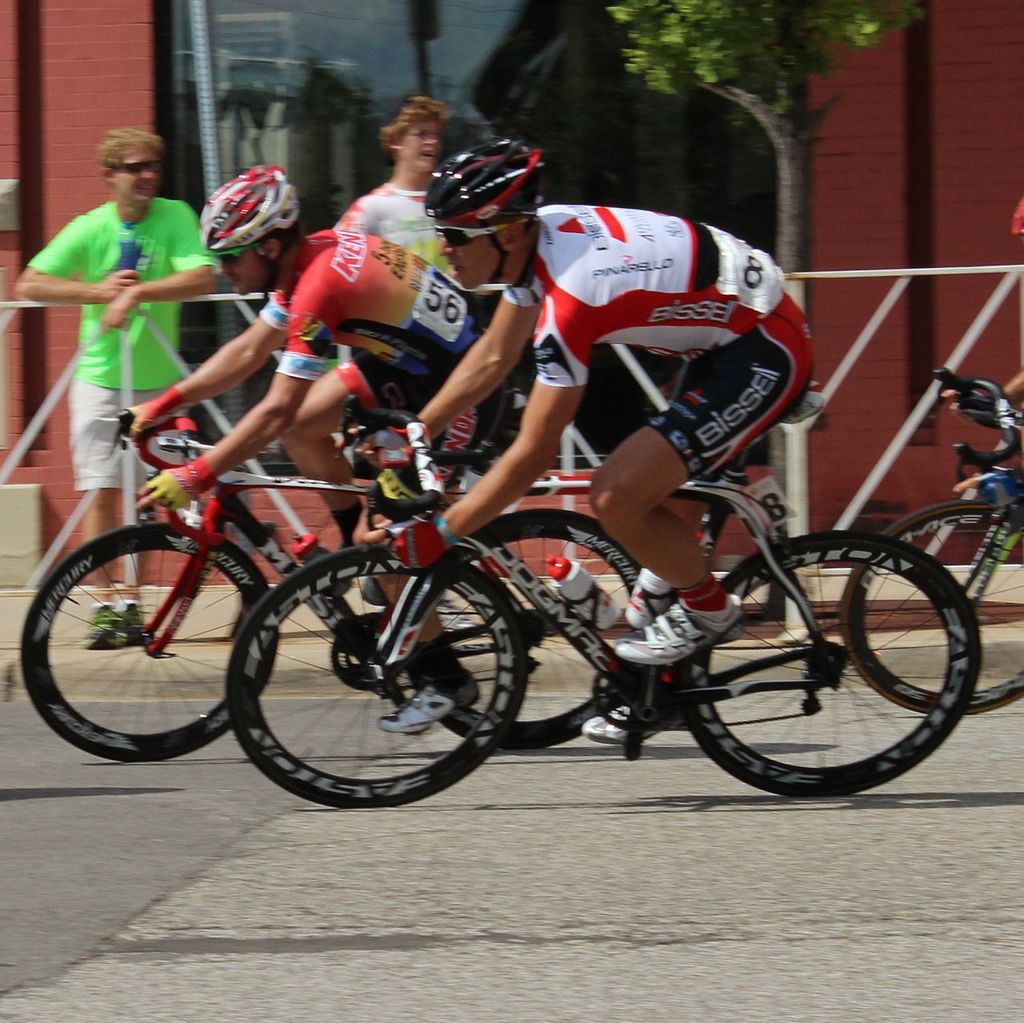Bicycle: (231, 409, 990, 817), (0, 402, 672, 767), (839, 368, 1023, 729)
